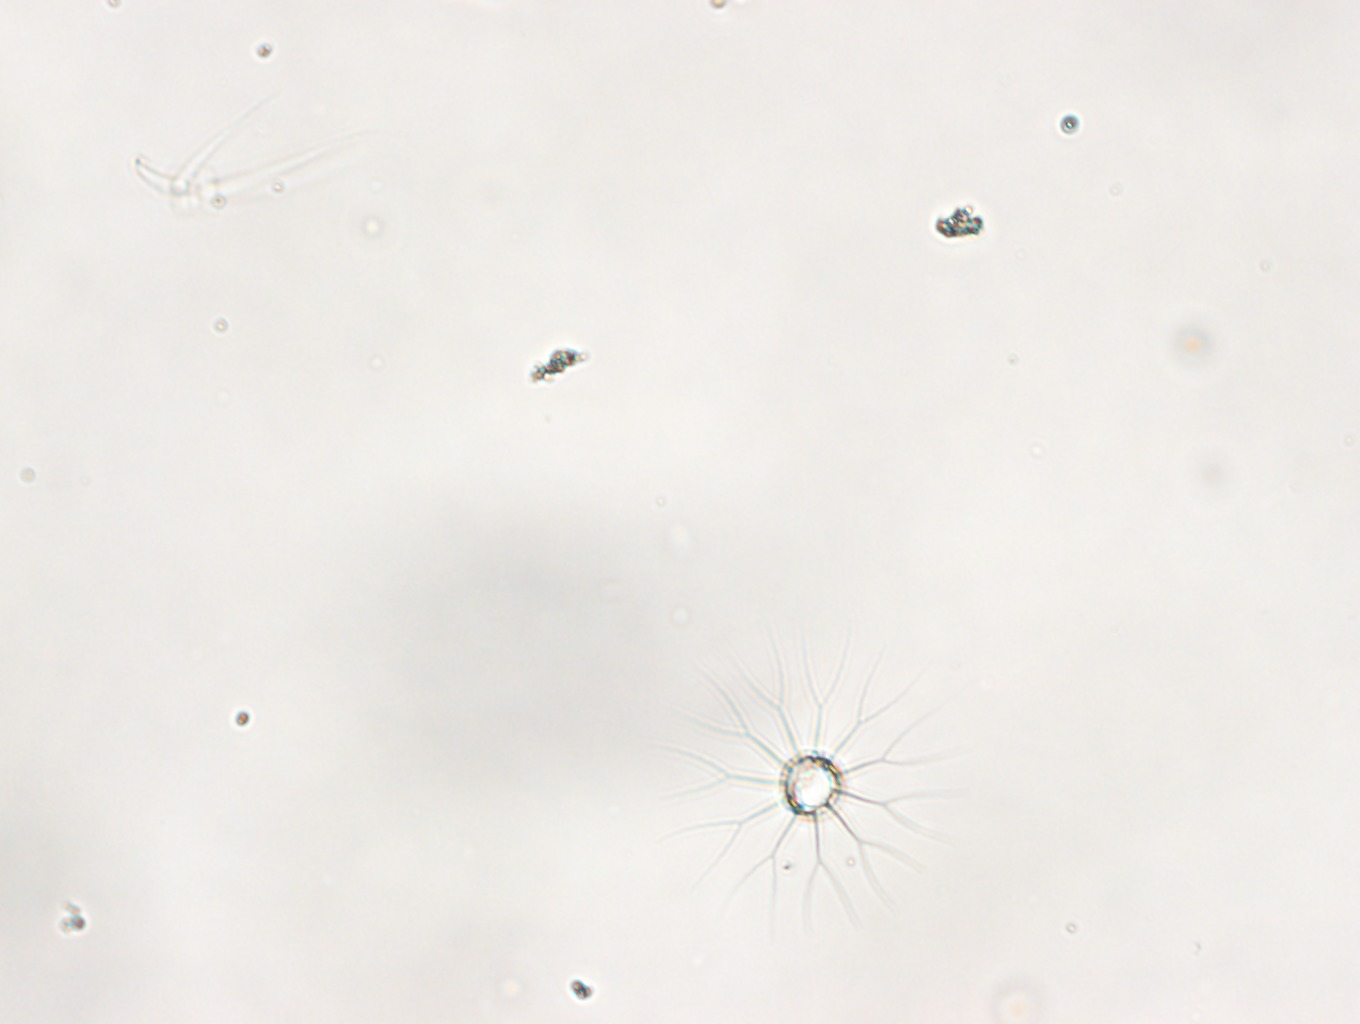bacteriastrum: (661, 632, 967, 945)
